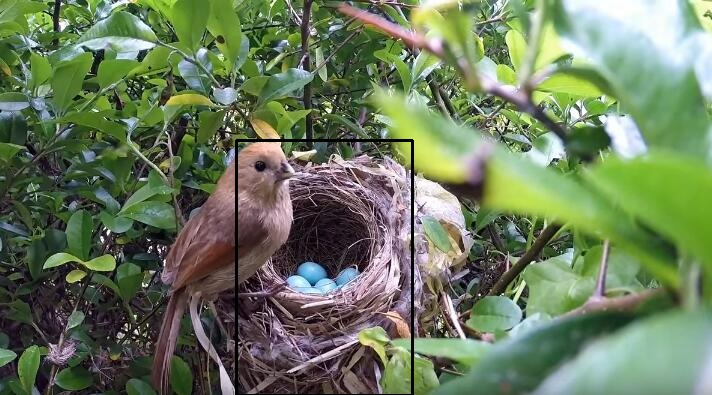bird-nest: (198, 162, 455, 380)
